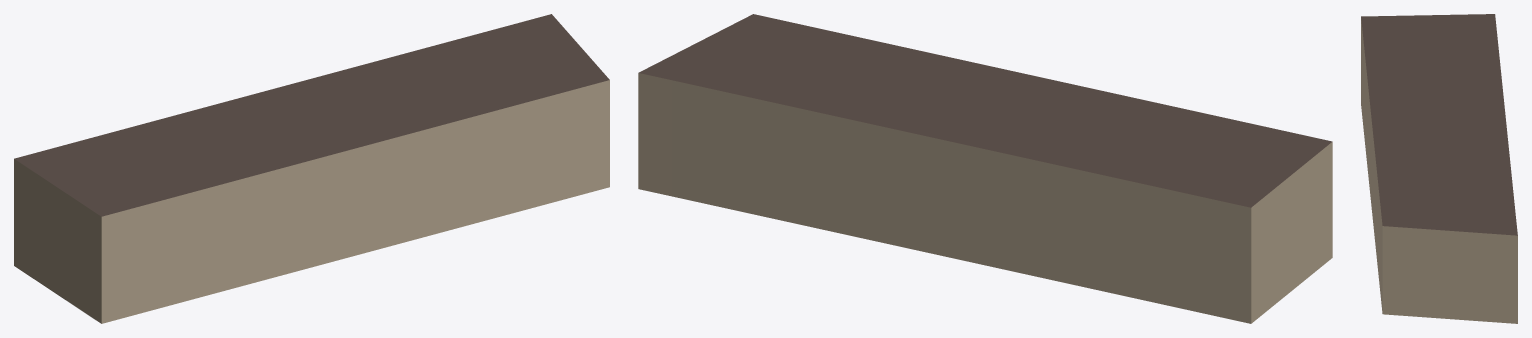
3 renders of one model, left to right at view 1: azimuth 30°, elevation 25°; view 2: azimuth 150°, elevation 25°; view 3: azimuth 270°, elevation 25°, orthographic. The views are drawn at different scales.
Parts seen in each view (by area): view 1: HP-w859447969; view 2: HP-w859447969; view 3: HP-w859447969.
Part boxes in pixels (left/top/right/bottom): HP-w859447969: left=14, top=14, right=609, bottom=323; HP-w859447969: left=638, top=14, right=1332, bottom=323; HP-w859447969: left=1361, top=14, right=1517, bottom=323.
Size of the model in its own units: 48.45 by 9 by 14.49.
